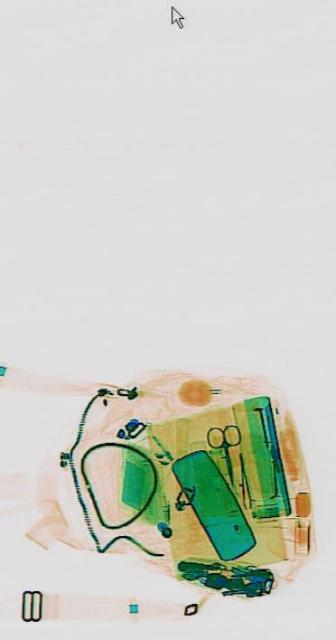Scissors: (204, 420, 242, 490)
